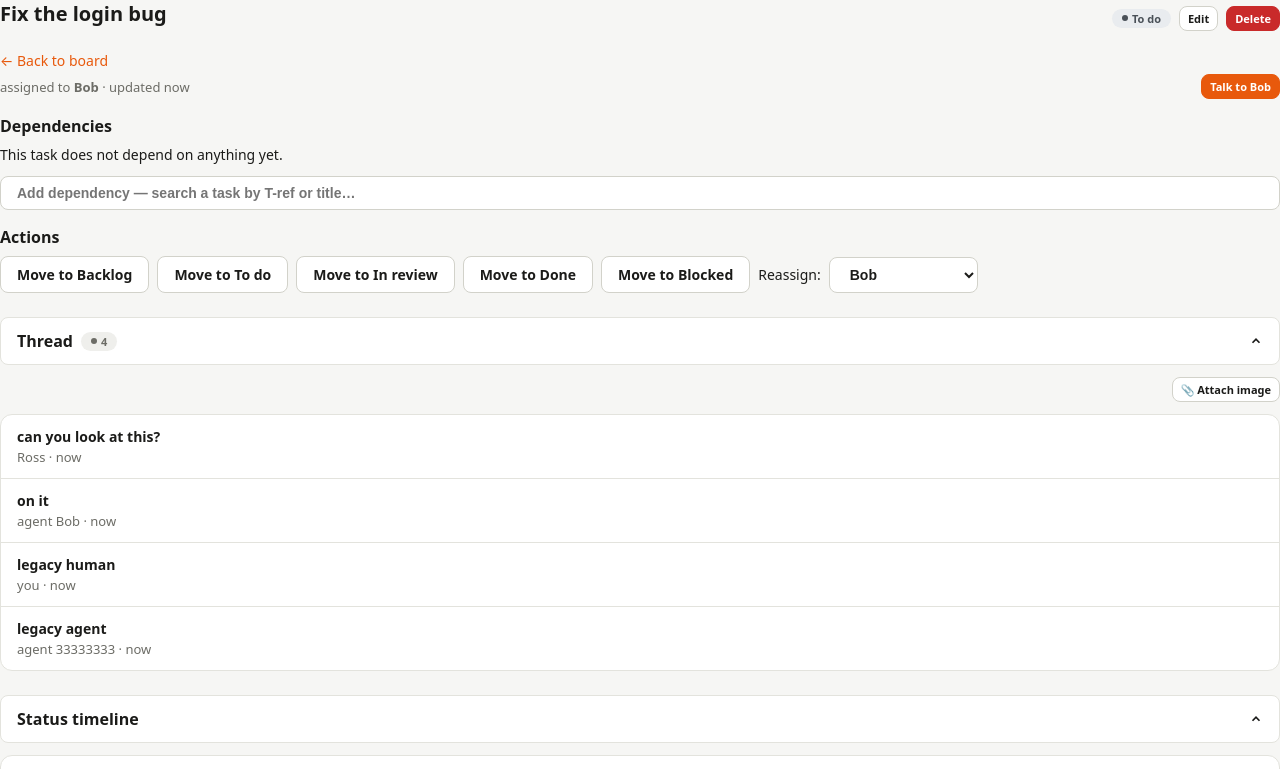
Test: collapsible sections (requirement 4) › collapsing the thread hides messages and persists to sessionStorage
Click the button "Thread 4": (45, 341) left=0, top=317, right=1279, bottom=365
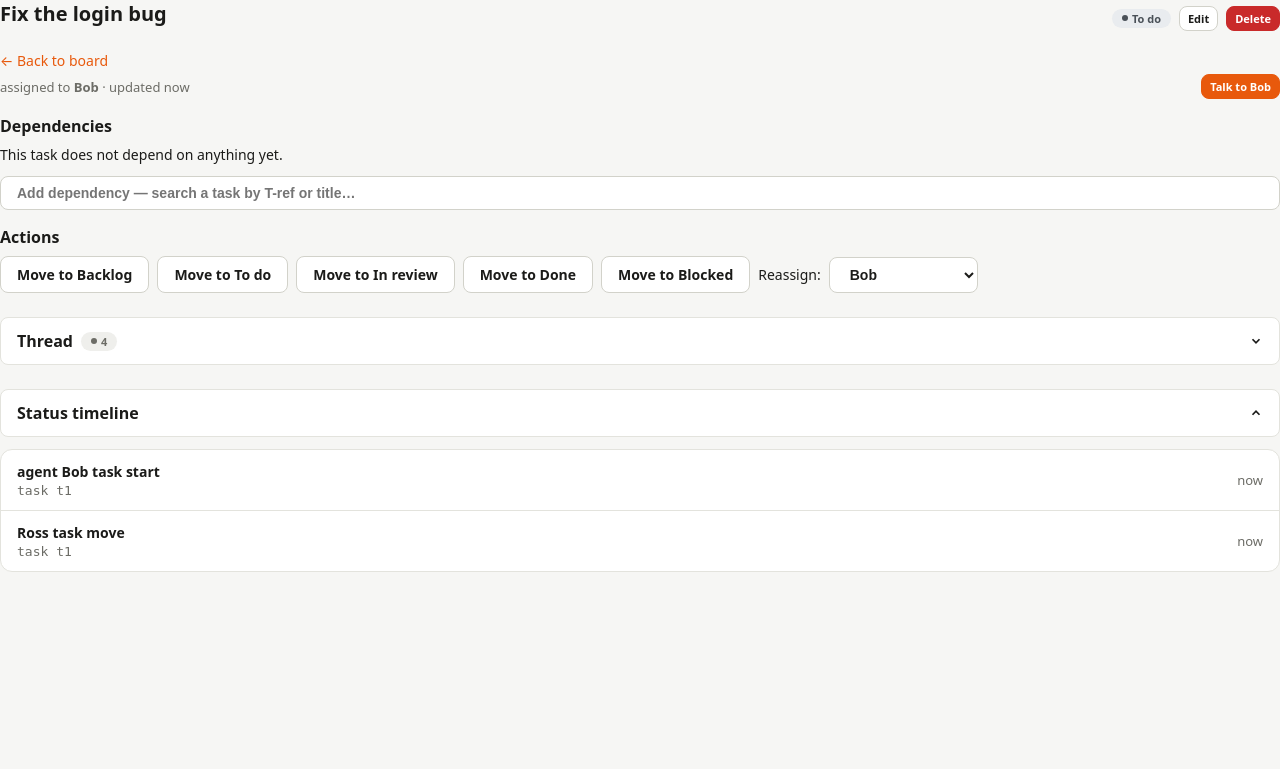
Expected: the button "Thread 4" is collapsed, left=0, top=317, right=1279, bottom=365
Expected: the text "can you look at this?" is gone
